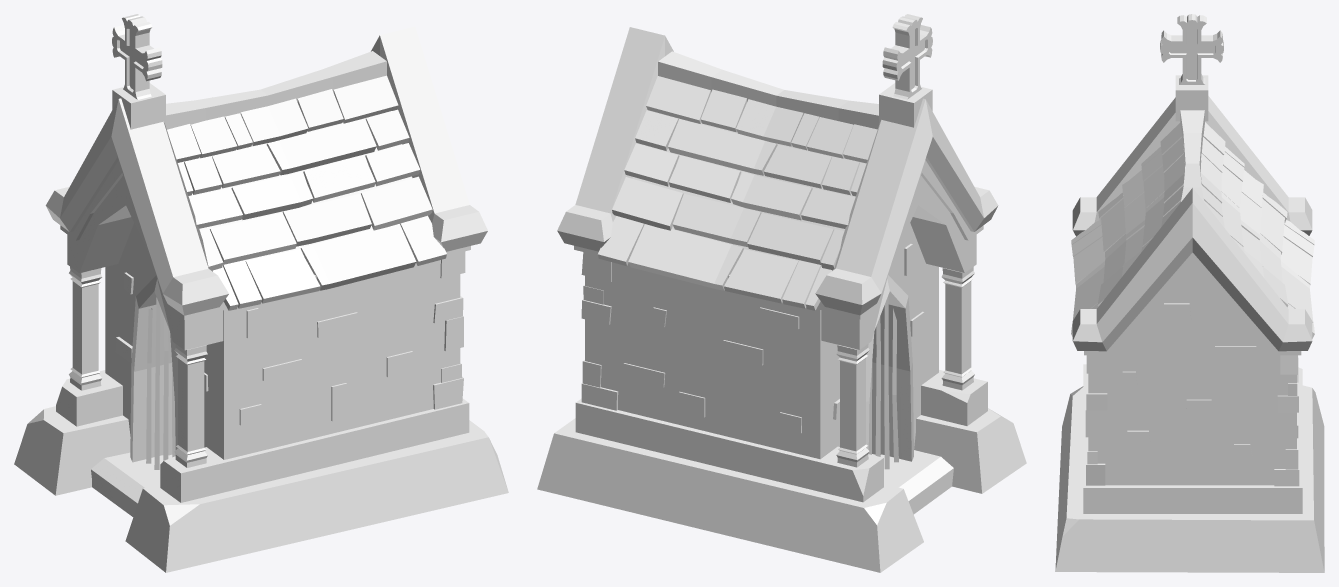
Rendered from large_house.fbx.
3 views of the same model, side by side, from view 1: azimuth 30°, elevation 25°; view 2: azimuth 150°, elevation 25°; view 3: azimuth 270°, elevation 25° (orthographic). The views are drawn at different scales.
Parts seen in each view (by area): view 1: Large Crypt.003; view 2: Large Crypt.003; view 3: Large Crypt.003.
Boxes of the visible parts, <box> form: Large Crypt.003: <box>14,14,508,572</box>; Large Crypt.003: <box>537,14,1026,572</box>; Large Crypt.003: <box>1055,14,1324,572</box>.
Bounding box in the file's own units: 139 × 188 × 107.
